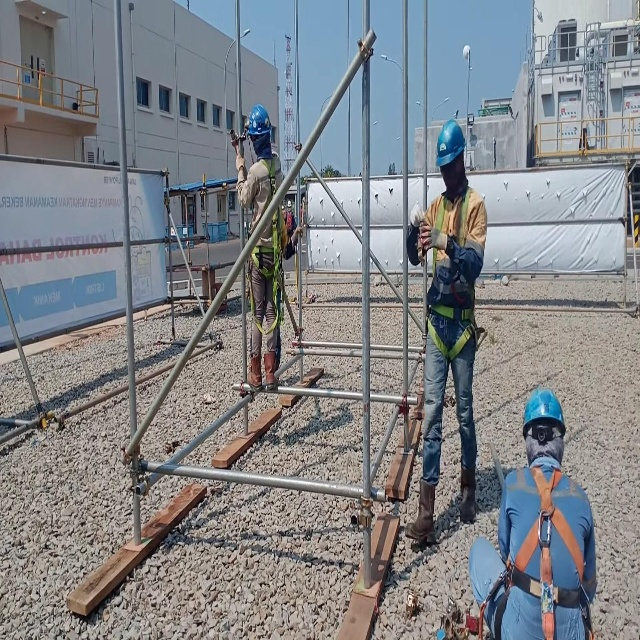Arnes_seguridad: (478, 460, 589, 640), (426, 187, 479, 363), (245, 161, 284, 333)
